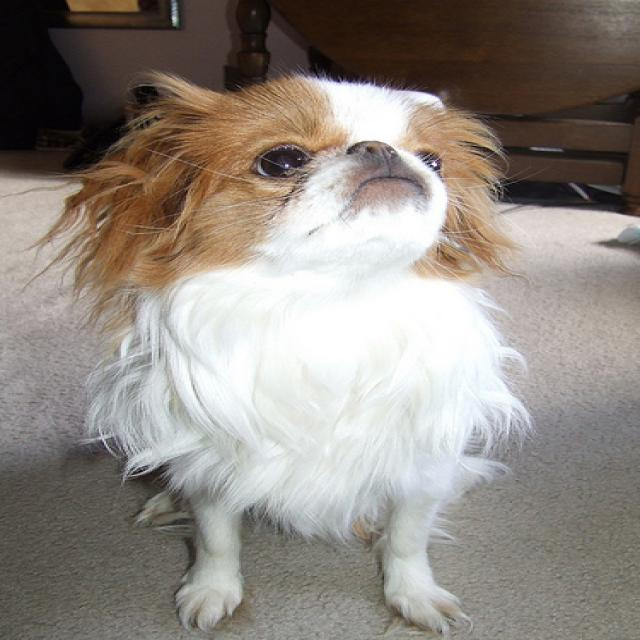dog-japanese_chin: (2, 61, 544, 637)
